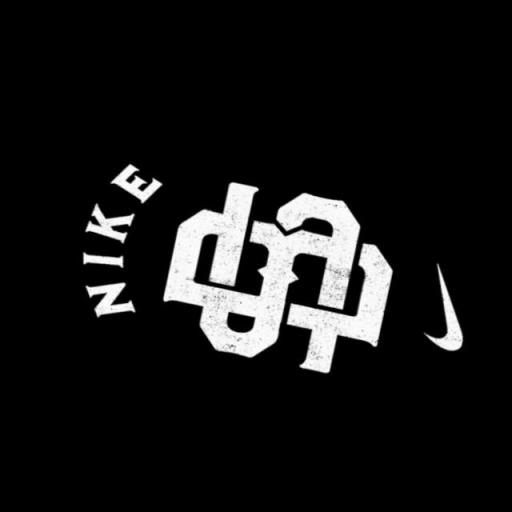Nike: (414, 258, 483, 362)
